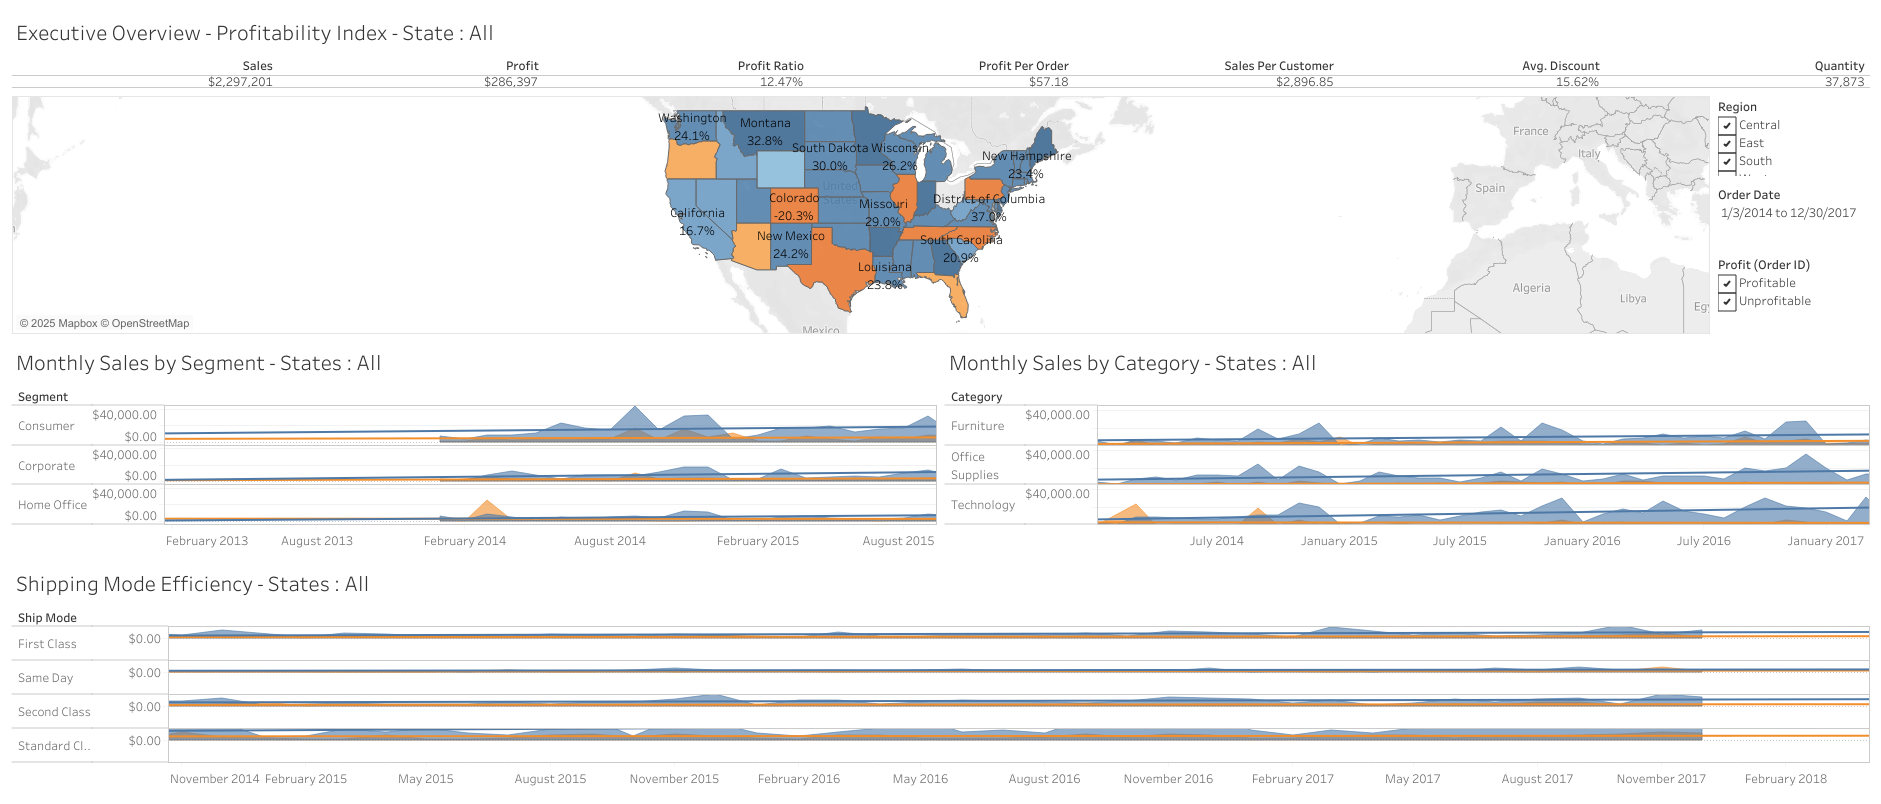

The page's visual inventory and layout, read from the dashboard file:
{"tool":"tableau","page":{"name":"Overview","canvas":[1000,1000],"units":"permille","ordinal":0},"visuals":[{"type":"worksheet","title":"KPI","mark":"Automatic","box":[6.2,7.8,987.5,104.5]},{"type":"worksheet","title":"profit ratio by geography","mark":"Automatic","box":[6.2,112.3,862.5,306.7]},{"type":"filter","title":"profit ratio by geography","param":"[federated.1rm2brj10q9ni81a44pt101rik8p].[none:Region:nk]","box":[868.8,112.3,125,132.8]},{"type":"filter","title":"sales by segment","param":"[federated.1rm2brj10q9ni81a44pt101rik8p].[none:Order Date:qk]","box":[868.8,245.1,125,71.3]},{"type":"filter","title":"sales by segment","param":"[federated.1rm2brj10q9ni81a44pt101rik8p].[none:Calculation_1079175071167283201:n","box":[868.8,316.4,125,102.5]},{"type":"worksheet","title":"sales by segment","mark":"Area","rows":["Segment","Sales"],"cols":["Order Date"],"box":[6.2,418.9,493.8,276.4]},{"type":"worksheet","title":"sales by category","mark":"Area","rows":["Category","Sales"],"cols":["Order Date"],"box":[500,418.9,493.8,276.4]},{"type":"worksheet","title":"Shipping Mode Efficiency","mark":"Area","rows":["Ship Mode","Sales"],"cols":["Order Date"],"box":[6.2,695.3,987.5,296.9]}]}

Visuals, with their boxes on the dashboard's canvas, which has no fixed pixel size, in thousandths of its width and height (x1, y1, x2, y2). These are canvas units, not pixel positions in the 1881x804 screenshot, which may show the page scaled, cropped or inside an application window:
"KPI" worksheet: 6:8:994:112
"profit ratio by geography" worksheet: 6:112:869:419
"profit ratio by geography" filter: 869:112:994:245
"sales by segment" filter: 869:245:994:316
"sales by segment" filter: 869:316:994:419
"sales by segment" worksheet (Area marks): 6:419:500:695
"sales by category" worksheet (Area marks): 500:419:994:695
"Shipping Mode Efficiency" worksheet (Area marks): 6:695:994:992
